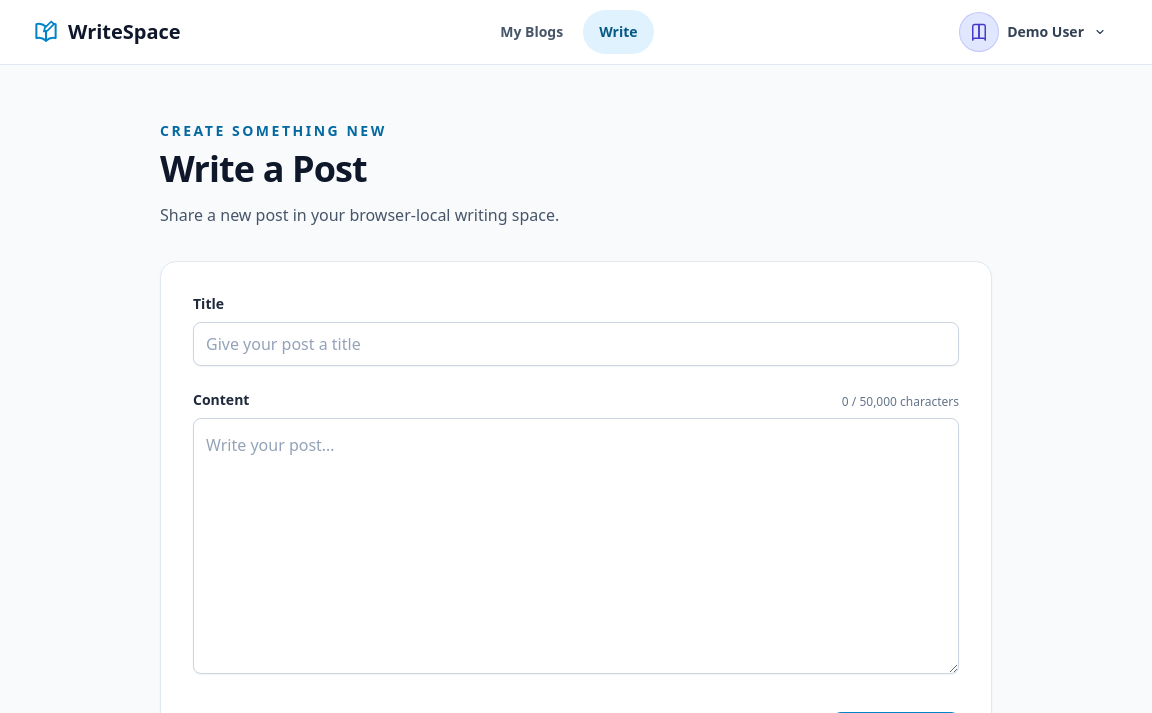
it: post creation and editing flows › shows a storage error and remains in the editor when creation cannot be saved
This screenshot has width=1152, height=713.
Check: the heading "Write a Post" is shown, box [160,144,367,193]
Type "Unsaved post" into the field labelled "Title".
click(576, 344); type("Unsaved post")  # box [193,322,959,366]
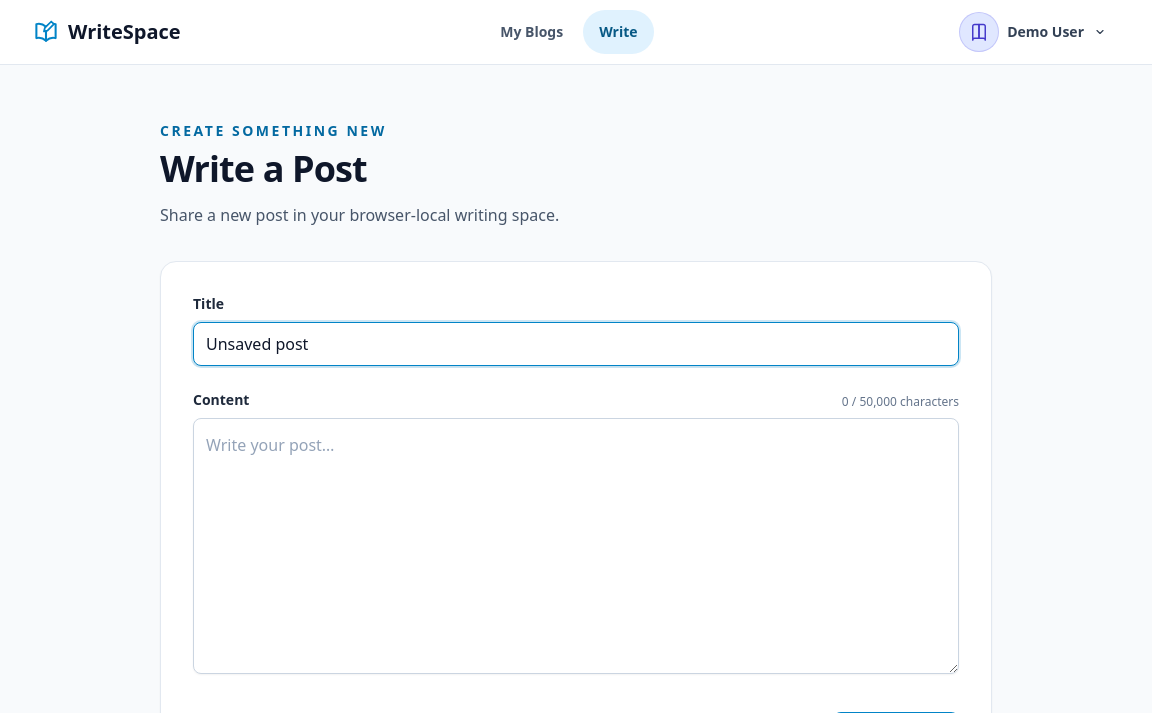
Type "This content cannot be persisted." into the text box labelled "Content".
click(576, 546); type("This content cannot be persisted.")  # box [193,418,959,674]
(page scrolled)
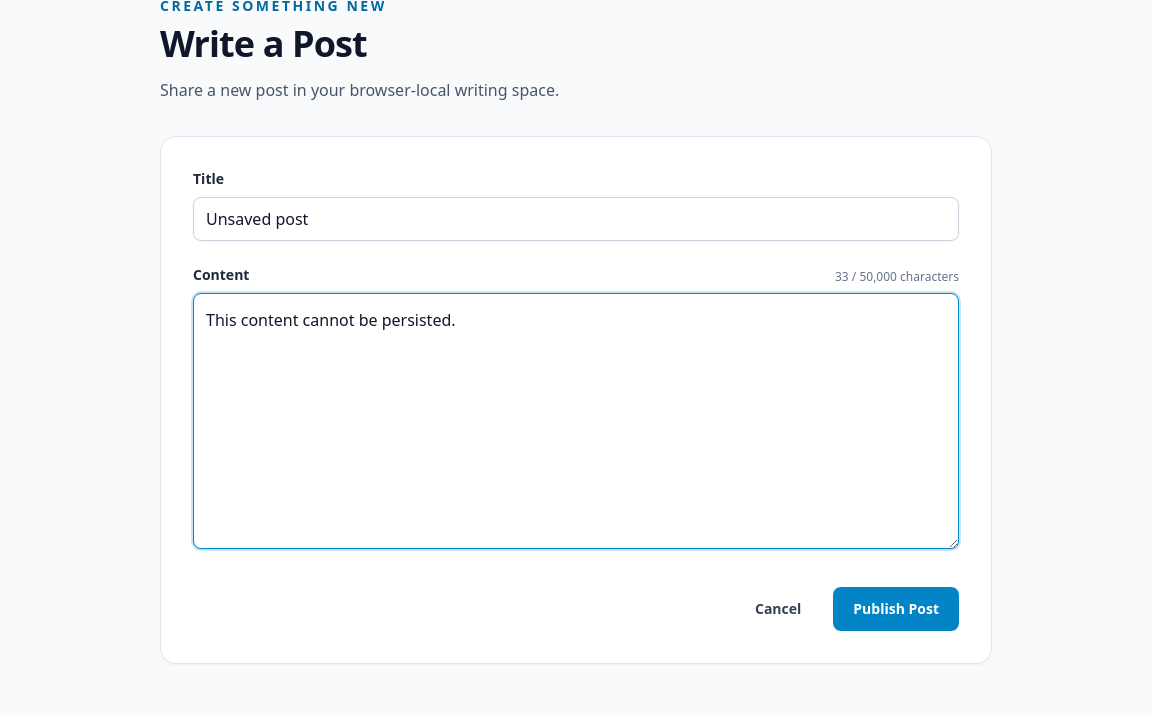
Click the button "Publish Post".
click(896, 609)  # box [833,587,959,631]
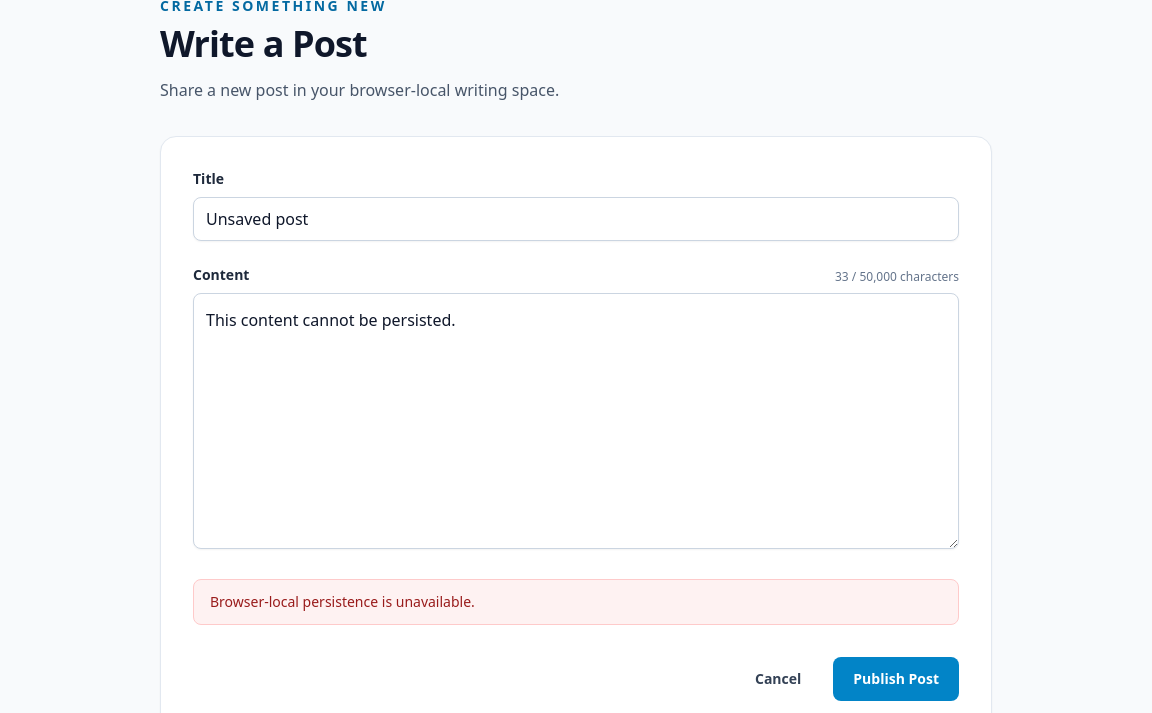
Check: the heading "Write a Post" is shown, box [160,19,367,68]
Check: the message reads "Browser-local persistence is unavailable.", box [210,592,475,611]
